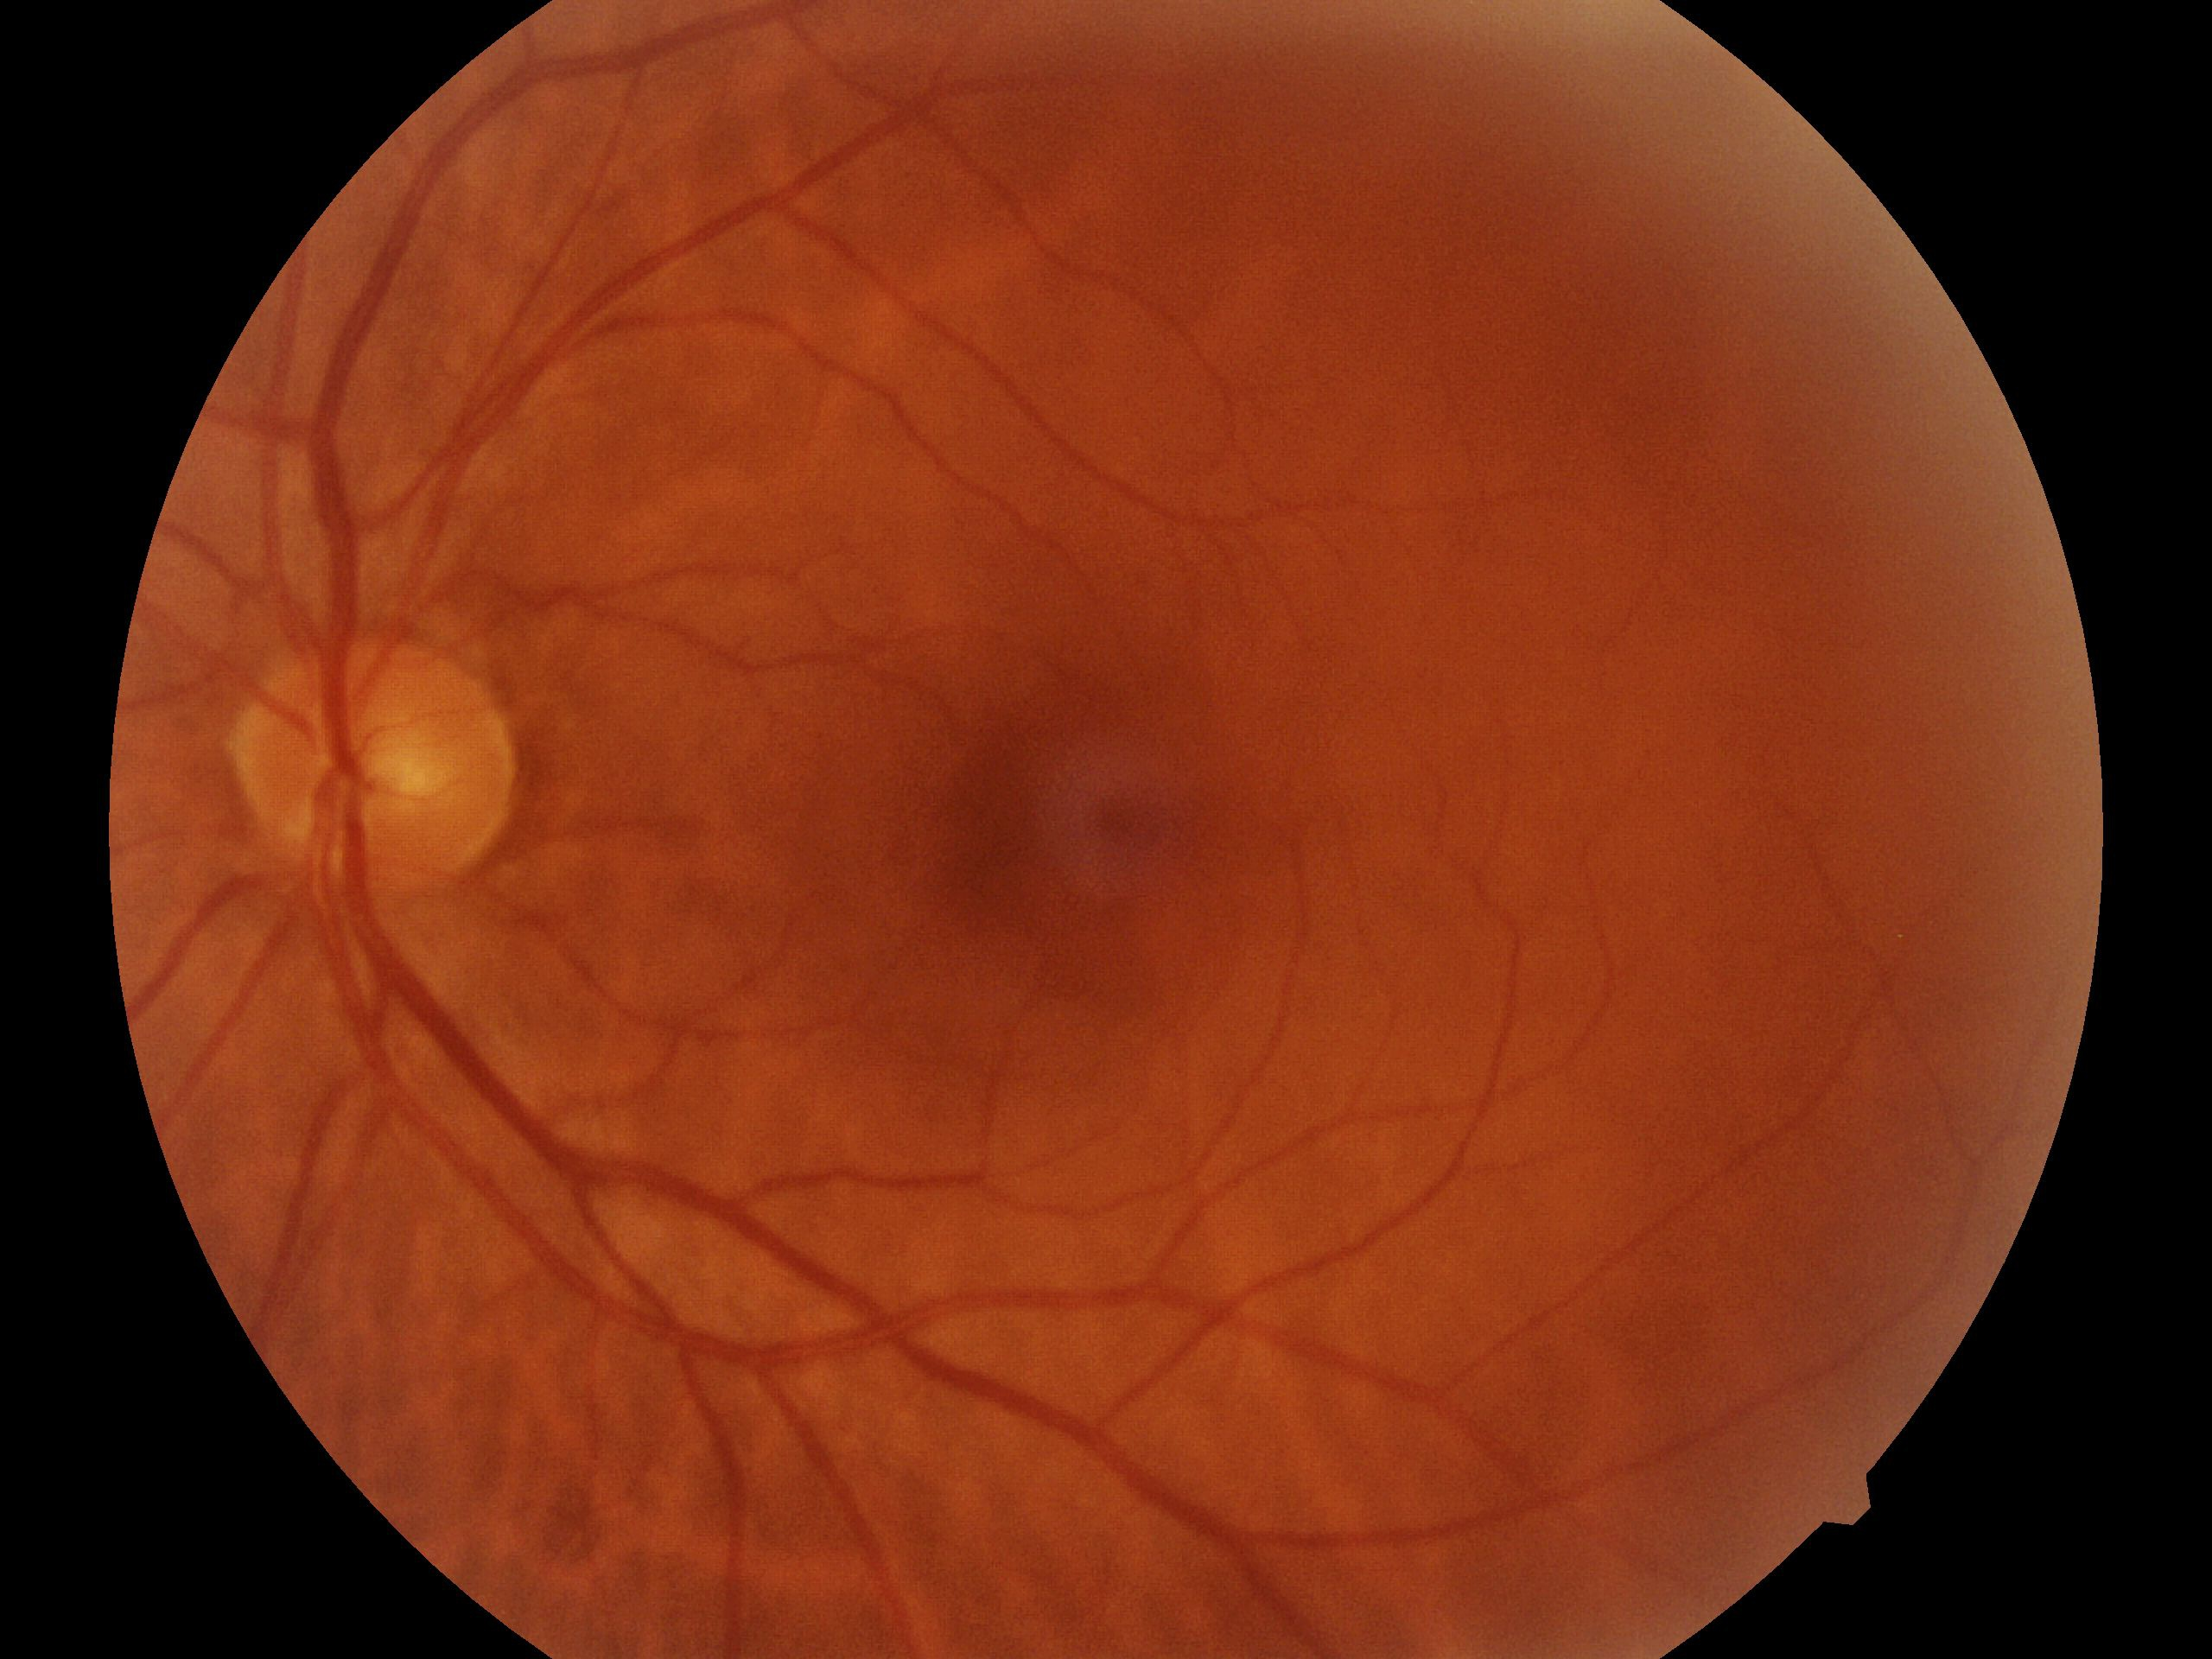Hemorrhages: (937, 659, 1254, 1018)
Optic-Disc: (240, 620, 521, 911)
Venules: (455, 986, 890, 1462), (310, 272, 411, 605)
